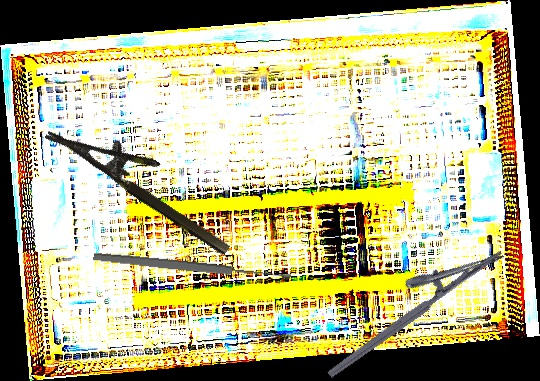Needle Holder: (44, 101, 247, 258), (309, 226, 506, 379)
Surgical Spoon: (92, 250, 292, 284)
